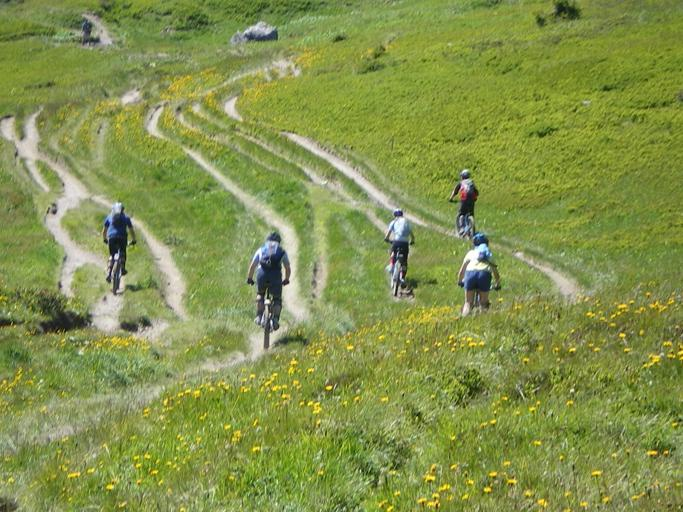non-vehicle: (247, 277, 289, 349), (383, 238, 413, 296), (104, 238, 135, 294), (457, 281, 501, 316), (448, 197, 474, 241)
